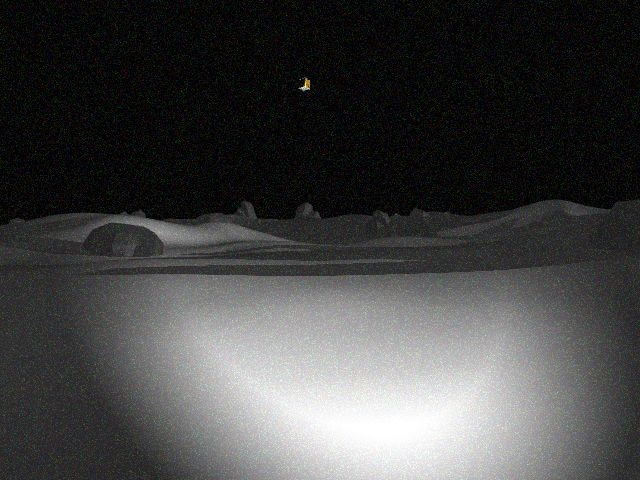cubesat: (293, 77, 312, 91)
